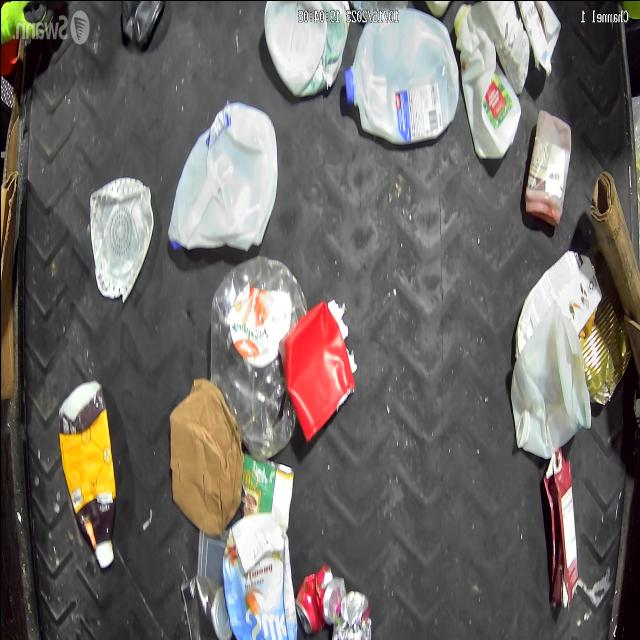can: (208, 252, 306, 462), (576, 293, 632, 406), (293, 564, 343, 634), (180, 576, 232, 640), (330, 592, 370, 640)
milk_jug: (166, 101, 277, 253), (344, 8, 458, 144), (509, 302, 591, 459), (454, 2, 521, 162), (512, 248, 600, 356), (263, 0, 350, 98)
non_white_jug: (57, 376, 116, 568), (220, 509, 296, 640), (542, 445, 578, 609)
